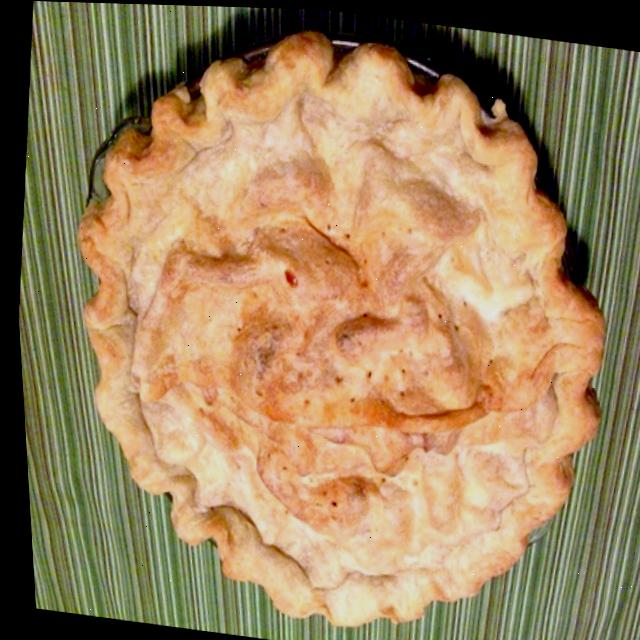炸货点心: (6, 4, 640, 640)
蛋糕甜品: (6, 4, 640, 640)
